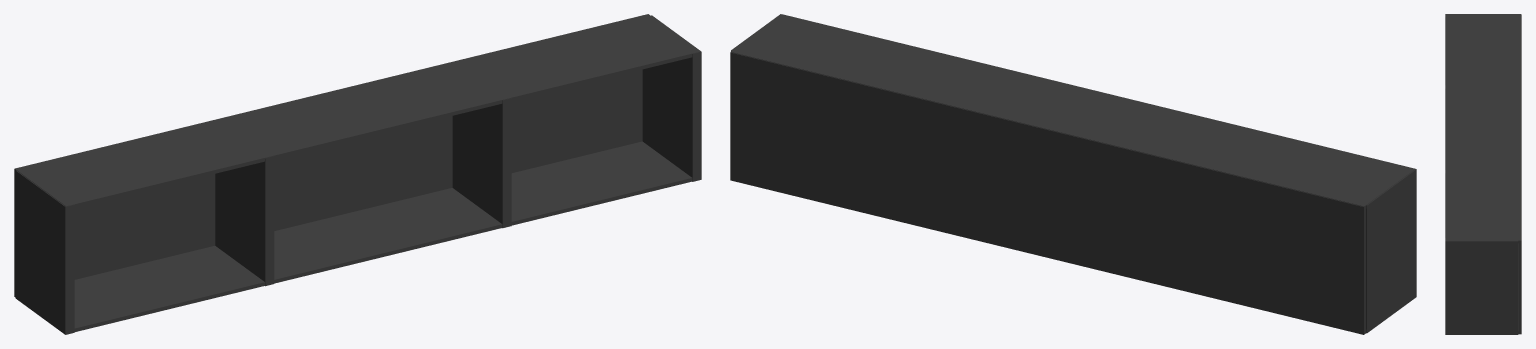
The model's file is Shelf_2.fbx.
The picture shows the model from 3 angles, left to right: view 1: azimuth 30°, elevation 25°; view 2: azimuth 150°, elevation 25°; view 3: azimuth 270°, elevation 25°; orthographic projection. The views are drawn at different scales.
Parts seen in each view (by area): view 1: Shelf_2; view 2: Shelf_2; view 3: Shelf_2.
Boxes of the visible parts, <box> form: Shelf_2: <box>14,14,701,334</box>; Shelf_2: <box>730,14,1416,334</box>; Shelf_2: <box>1445,14,1521,334</box>.
Size of the model in its own units: 222 by 31.44 by 42.68.
